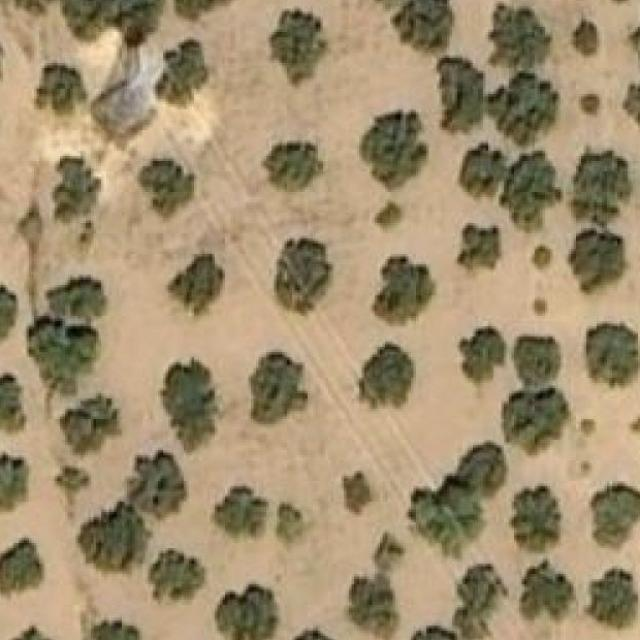Tree: (408, 440, 506, 556), (360, 107, 430, 193), (75, 502, 148, 577), (160, 357, 217, 453), (268, 6, 330, 89), (370, 254, 440, 326), (274, 238, 334, 316), (248, 350, 308, 425), (34, 326, 101, 391), (506, 388, 571, 453), (356, 342, 416, 412), (588, 481, 640, 558), (581, 567, 640, 634), (129, 448, 186, 515), (215, 584, 282, 640), (60, 396, 120, 458), (155, 41, 209, 108), (165, 256, 225, 316), (148, 548, 208, 608), (500, 78, 560, 138), (346, 574, 400, 640), (578, 151, 628, 221), (509, 486, 560, 553), (586, 321, 638, 386), (389, 0, 454, 51), (55, 156, 106, 221), (506, 156, 552, 228), (139, 159, 196, 216), (521, 560, 573, 620), (263, 142, 323, 192), (457, 326, 507, 386), (578, 233, 628, 293), (217, 486, 271, 541), (80, 0, 156, 39), (0, 536, 45, 601), (499, 6, 548, 63), (514, 335, 564, 389), (52, 274, 112, 316), (447, 66, 483, 131), (36, 66, 81, 111), (457, 223, 499, 269), (0, 453, 29, 518), (459, 567, 501, 611), (0, 370, 27, 436), (462, 146, 498, 192), (341, 471, 376, 517), (172, 0, 238, 22), (0, 272, 19, 345), (91, 617, 142, 640), (622, 68, 640, 130), (276, 502, 302, 543), (374, 536, 404, 570), (55, 466, 91, 494), (0, 625, 67, 640), (374, 200, 406, 231), (398, 625, 463, 640), (576, 22, 602, 58), (290, 625, 341, 640), (457, 608, 486, 634), (628, 1, 640, 61), (9, 0, 55, 11), (580, 417, 604, 438), (580, 94, 604, 112), (532, 295, 552, 316), (535, 249, 555, 267), (628, 411, 640, 435)
